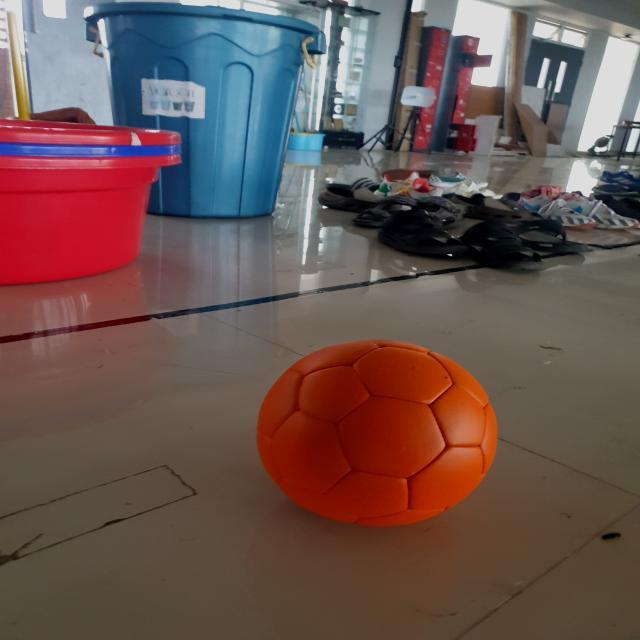bola: (223, 319, 507, 534)
